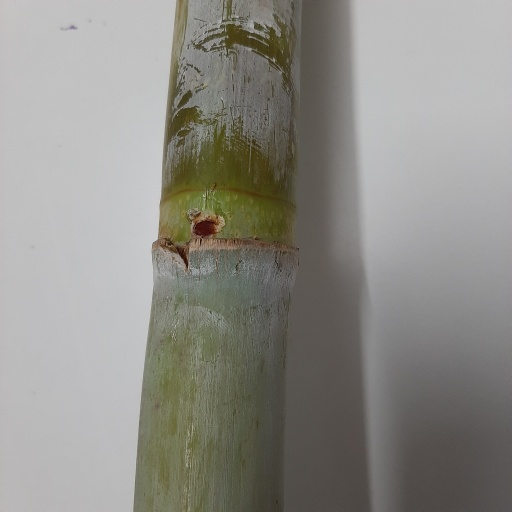Damage_Bud: (188, 208, 226, 235)
